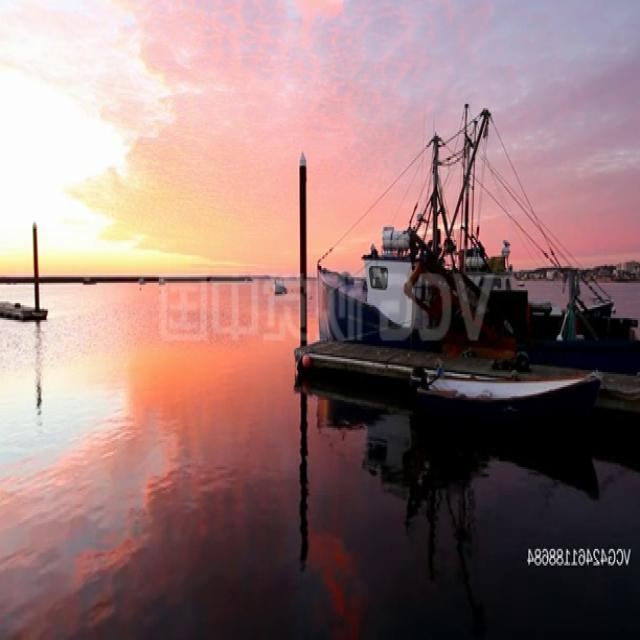fishing boat: (318, 99, 640, 368)
